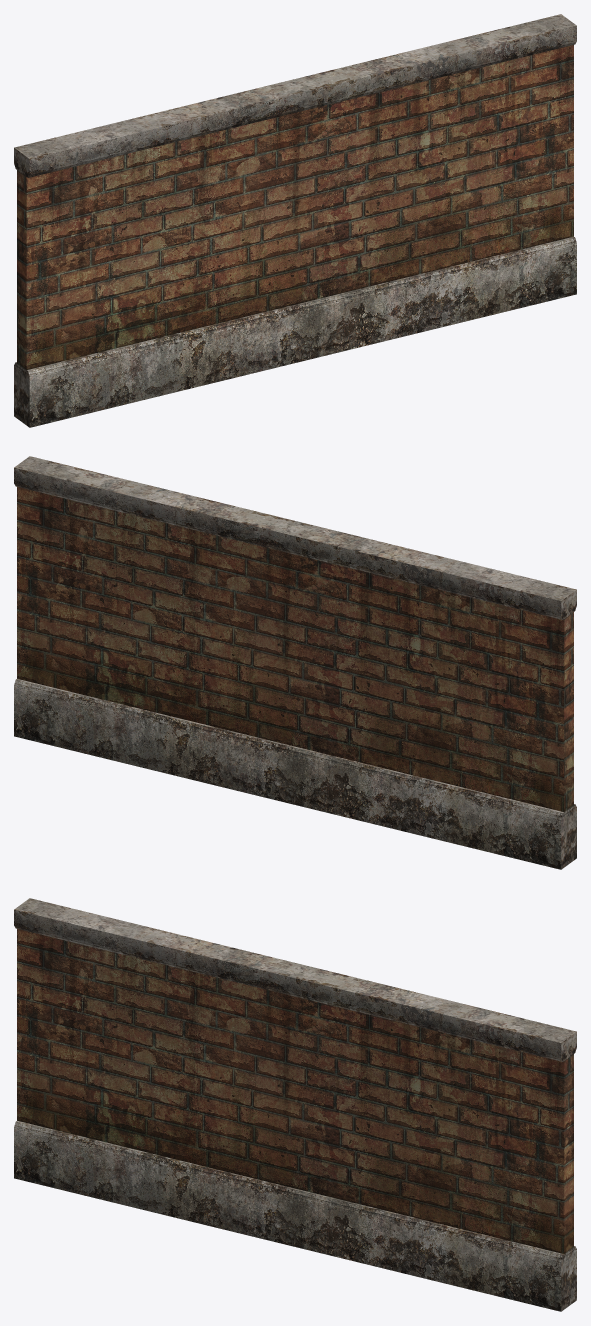
File: Wall3B.fbx
3 views of the same model, one above another, from view 1: azimuth 30°, elevation 25°; view 2: azimuth 150°, elevation 25°; view 3: azimuth 330°, elevation 25° (orthographic).
Parts seen in each view (by area): view 1: polySurface34; view 2: polySurface34; view 3: polySurface34.
Boxes of the visible parts, x1,y1,x2,y2 form: polySurface34: (14, 14, 576, 427); polySurface34: (14, 456, 576, 869); polySurface34: (14, 898, 576, 1311).
Bounding box in the file's own units: 6 × 2.82 × 0.3.
